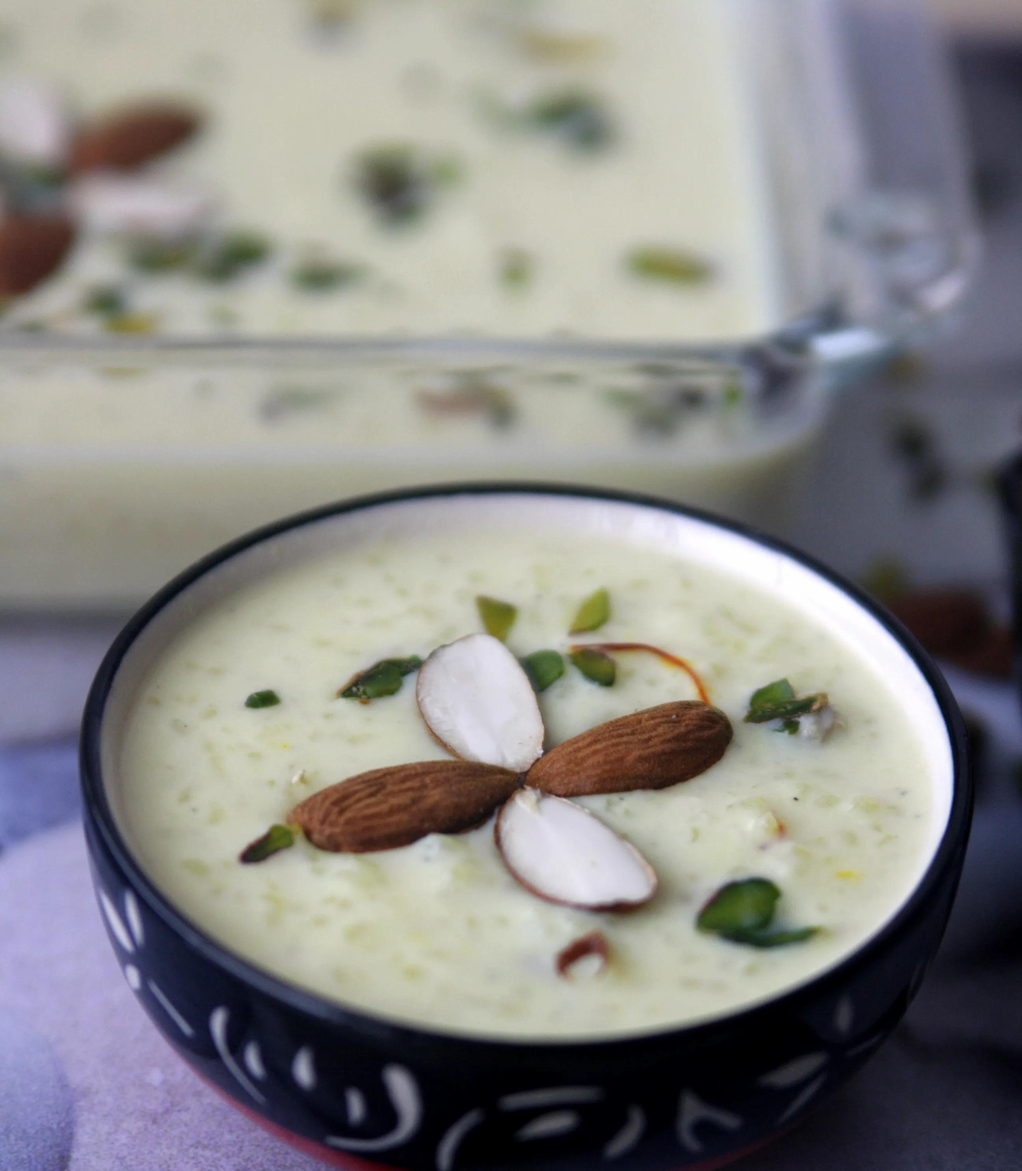Kheer: (0, 0, 831, 602), (121, 521, 944, 1045)
